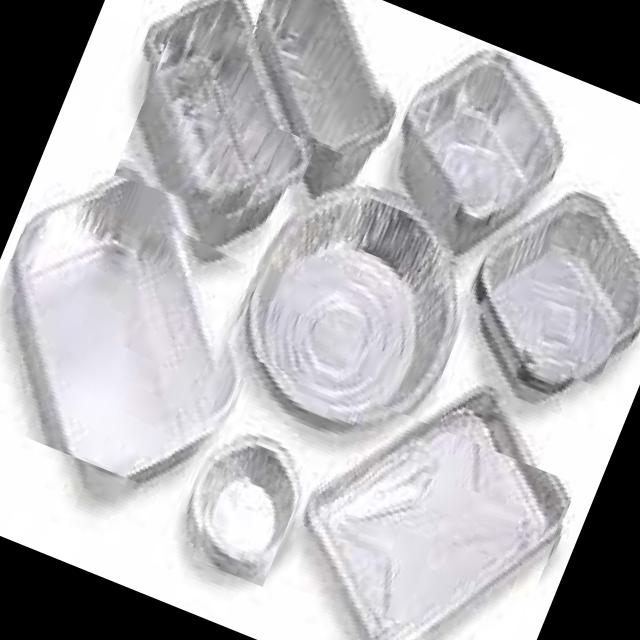Cans: (0, 164, 269, 496), (272, 399, 577, 640), (230, 188, 482, 425), (113, 0, 342, 235), (222, 0, 422, 162), (394, 44, 564, 220), (507, 195, 640, 390), (180, 434, 310, 587)
